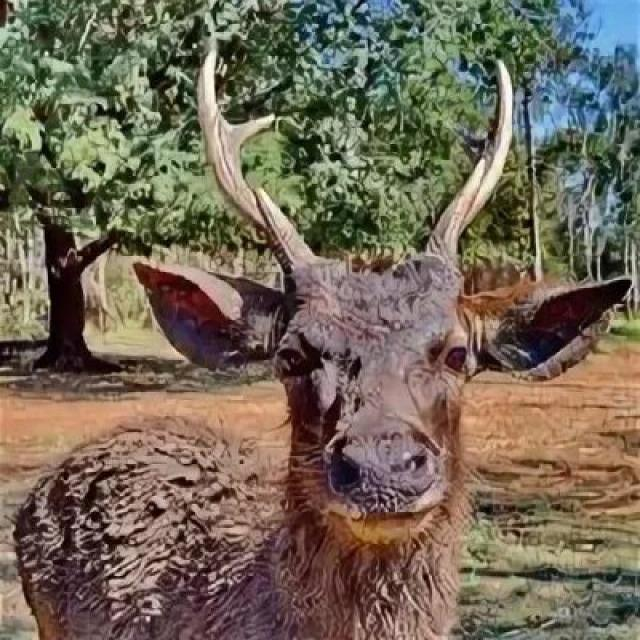deer: (62, 142, 580, 640)
